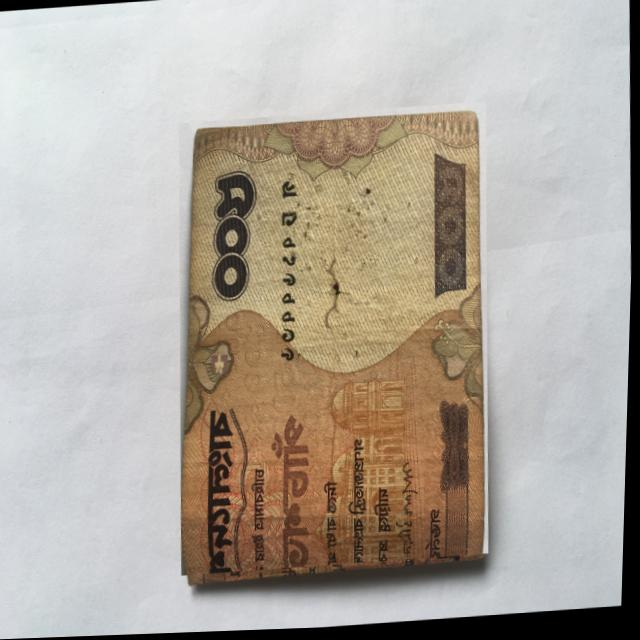Taka: (168, 104, 502, 577)
